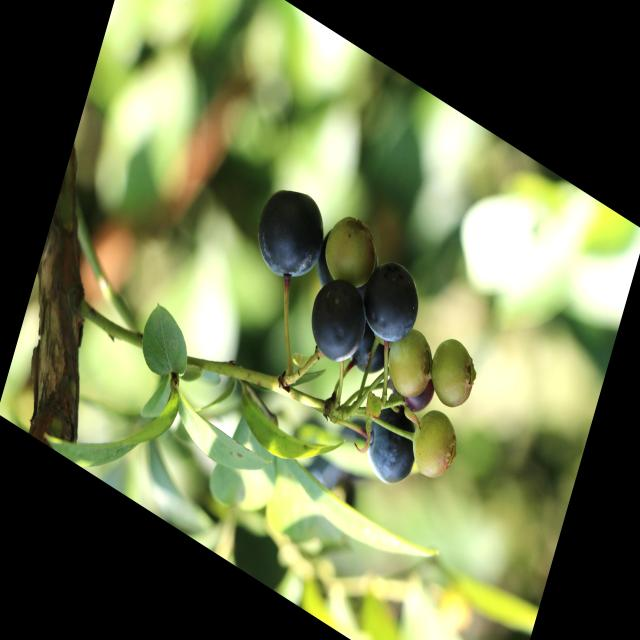blueberry: (244, 167, 340, 304), (299, 260, 382, 382), (352, 243, 433, 363), (353, 386, 431, 502), (306, 212, 383, 322), (344, 316, 399, 394)
blueberry-unripe: (423, 326, 485, 420), (320, 204, 383, 296), (405, 396, 465, 489), (383, 324, 440, 411)
